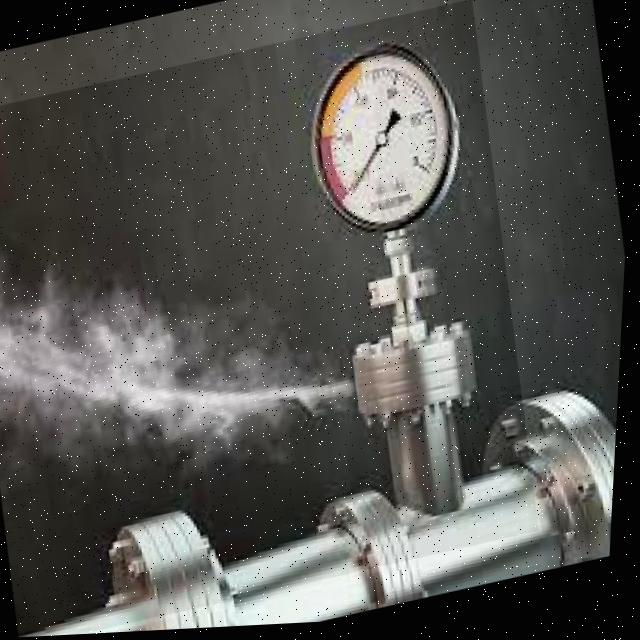corrosion: (104, 309, 437, 531)
